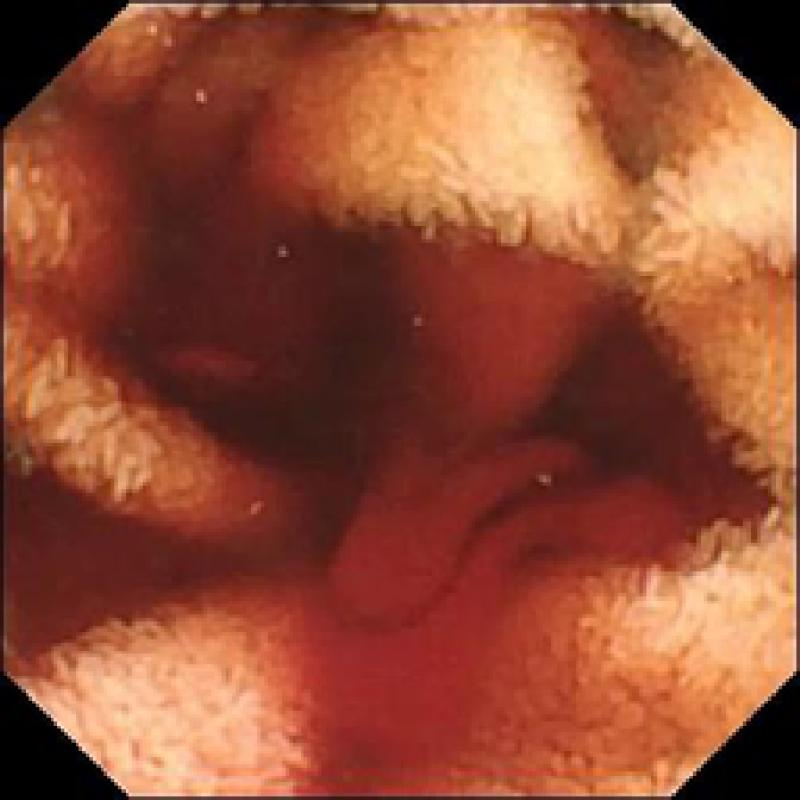bleeding: (307, 232, 668, 800), (2, 443, 243, 665), (50, 97, 289, 296)
